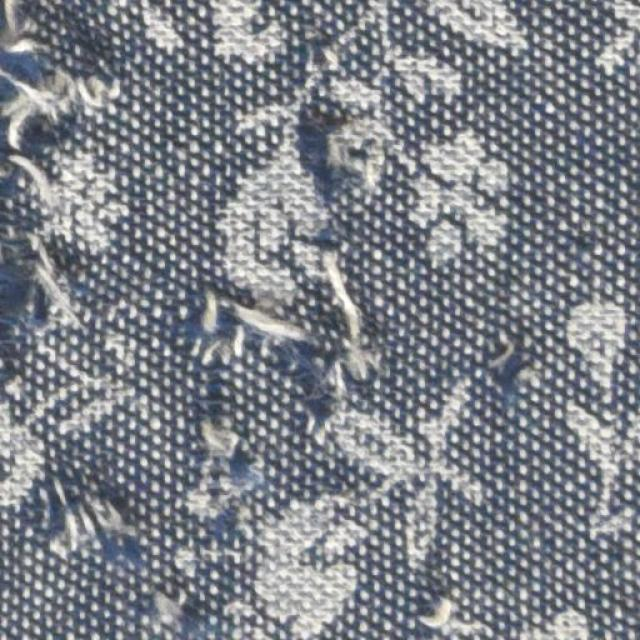Snag: (172, 245, 379, 508), (3, 9, 124, 384), (292, 63, 382, 229), (40, 483, 139, 567), (466, 330, 541, 418), (411, 583, 474, 638), (148, 586, 201, 627)
